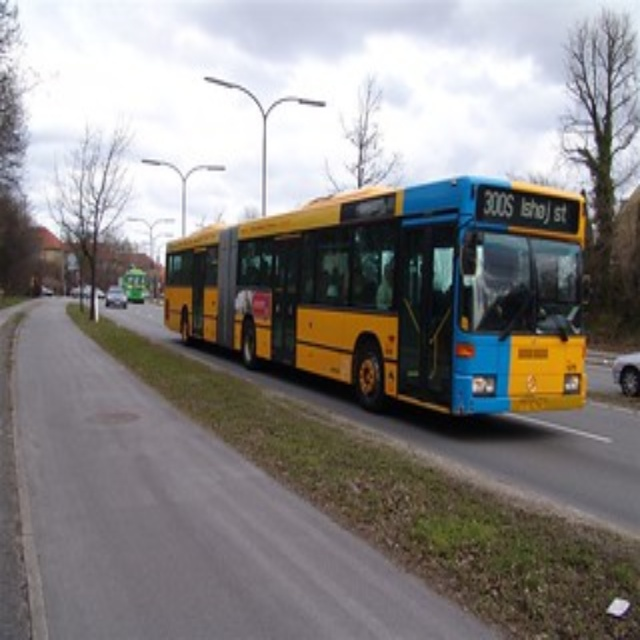Bus: (160, 176, 586, 421)
